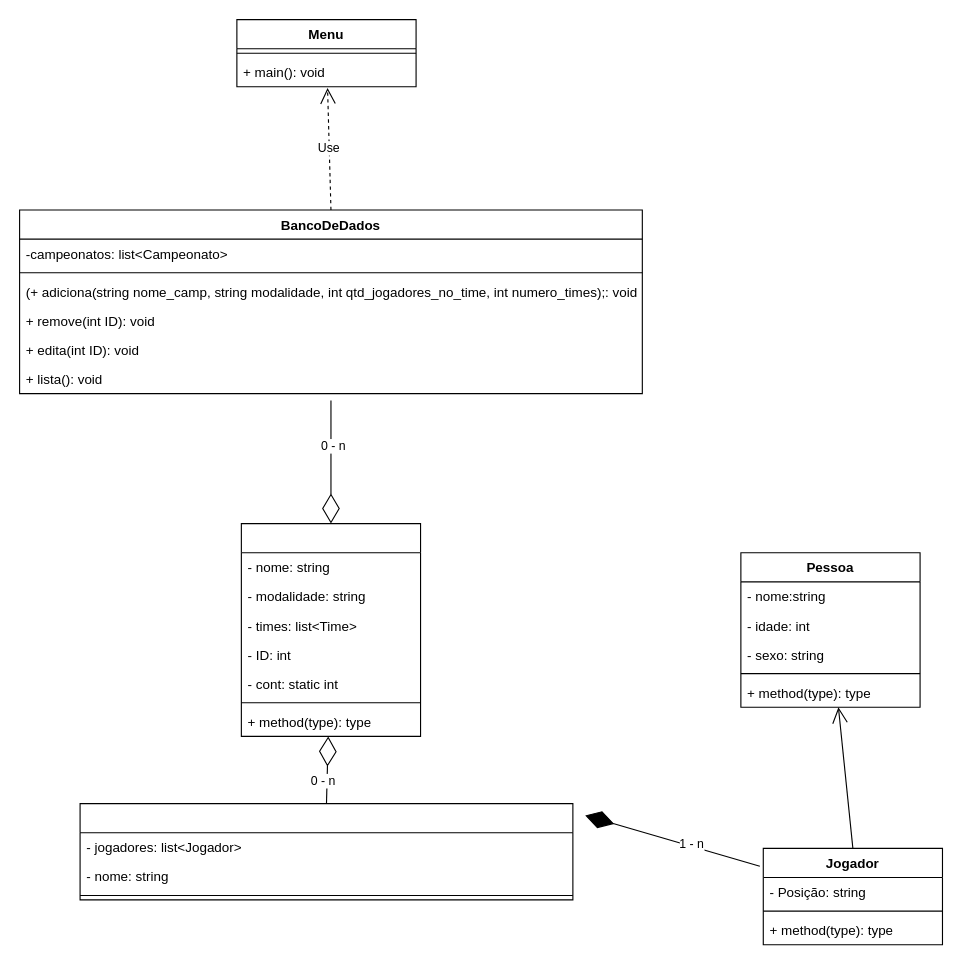
The diagram is 962 pixels wide and 968 high, and some of its shapes have lost their labels. The shapes that lost their labels are listed below. From the top down, each one's box as (x1, y1, x2, y2) in pixels, then its label:
(240, 522, 421, 736): Campeonato
(79, 802, 573, 900): Time
